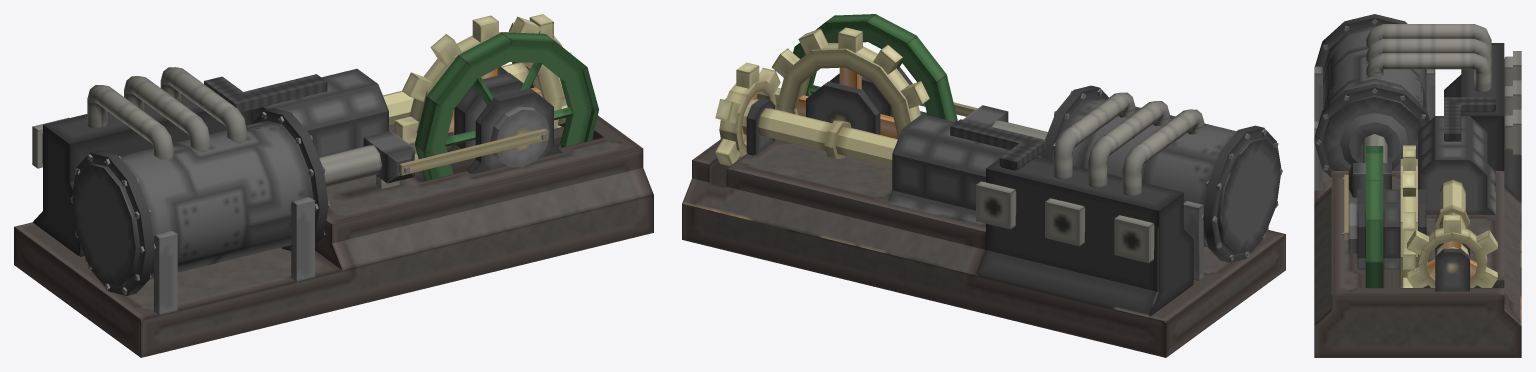
The model's file is steam_engine.obj.
The picture shows the model from 3 angles, left to right: view 1: azimuth 30°, elevation 25°; view 2: azimuth 150°, elevation 25°; view 3: azimuth 270°, elevation 25°; orthographic projection. The views are drawn at different scales.
Visible parts, largest first — view 1: Base, Flywheel, Piston, Transmission, Shaft; view 2: Base, Flywheel, Shaft, Piston; view 3: Base, Flywheel, Shaft, Piston, Transmission.
Part boxes in pixels (x1,y1,x2,y2): Base: (14,62,653,357); Flywheel: (395,15,598,180); Piston: (319,131,414,188); Transmission: (399,128,548,175); Shaft: (383,14,571,124); Base: (682,67,1285,357); Flywheel: (771,14,957,139); Shaft: (715,62,897,167); Piston: (963,105,1047,157); Base: (1314,14,1521,357); Flywheel: (1348,145,1417,287); Shaft: (1407,179,1497,287); Piston: (1348,134,1391,197); Transmission: (1342,174,1348,240).
Size of the model in its own units: 7 by 2.56 by 3.
